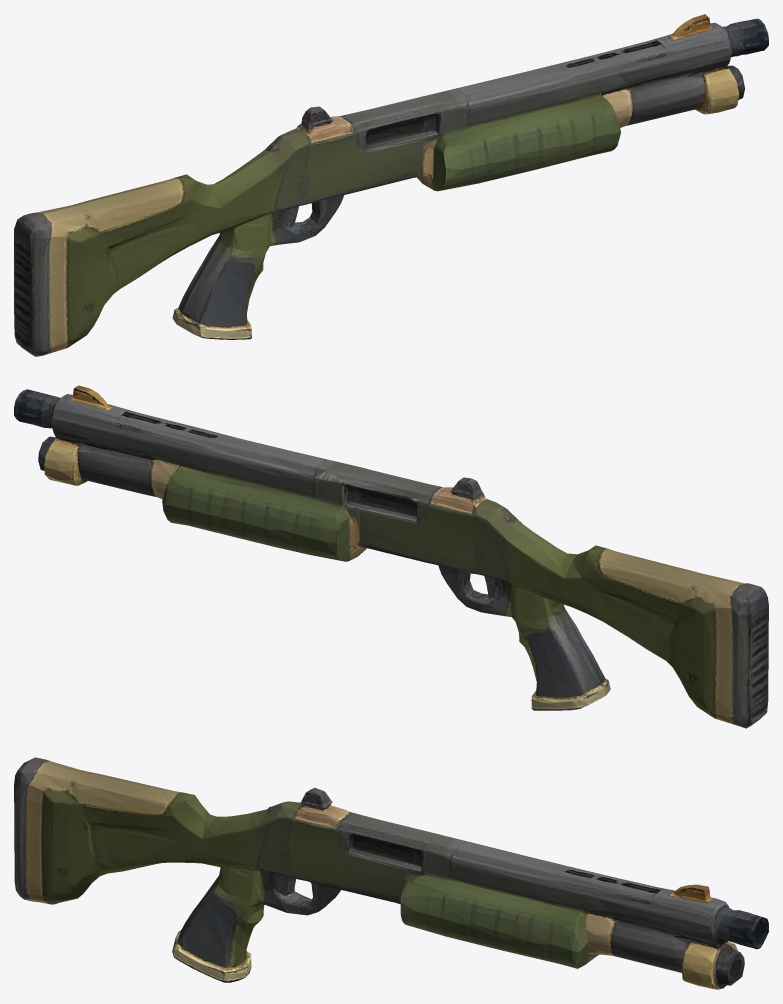
File: shotgun.glb
3 views of the same model, one above another, from view 1: azimuth 30°, elevation 25°; view 2: azimuth 150°, elevation 25°; view 3: azimuth 330°, elevation 25° (orthographic).
Parts seen in each view (by area): view 1: geometry_0; view 2: geometry_0; view 3: geometry_0.
Part boxes in pixels (box(x1,y1,x2,y2)): geometry_0: box(14, 14, 768, 356); geometry_0: box(14, 385, 768, 728); geometry_0: box(14, 757, 768, 989).
Size of the model in its own units: 0.9998 by 0.2638 by 0.1088.
Materials: 1 (1 with a texture image).
